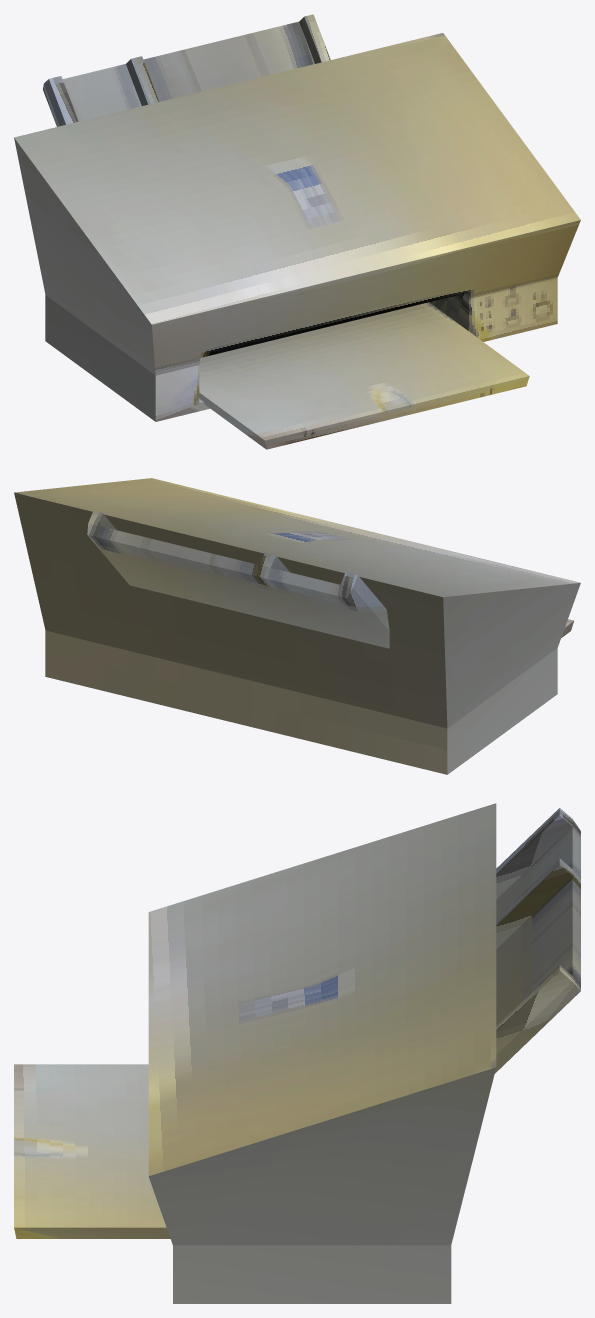
The model's file is printer.glb.
The picture shows the model from 3 angles, top to bottom: view 1: azimuth 30°, elevation 25°; view 2: azimuth 150°, elevation 25°; view 3: azimuth 270°, elevation 25°; orthographic projection. The views are drawn at different scales.
Visible parts, largest first — view 1: printer; view 2: printer; view 3: printer.
Boxes of the visible parts, x1,y1,x2,y2 form: printer: (14, 14, 580, 449); printer: (14, 478, 580, 774); printer: (14, 803, 580, 1303).
Bounding box in the file's own units: 0.6023 × 0.2945 × 0.5461.
1 material, 1 textured.
